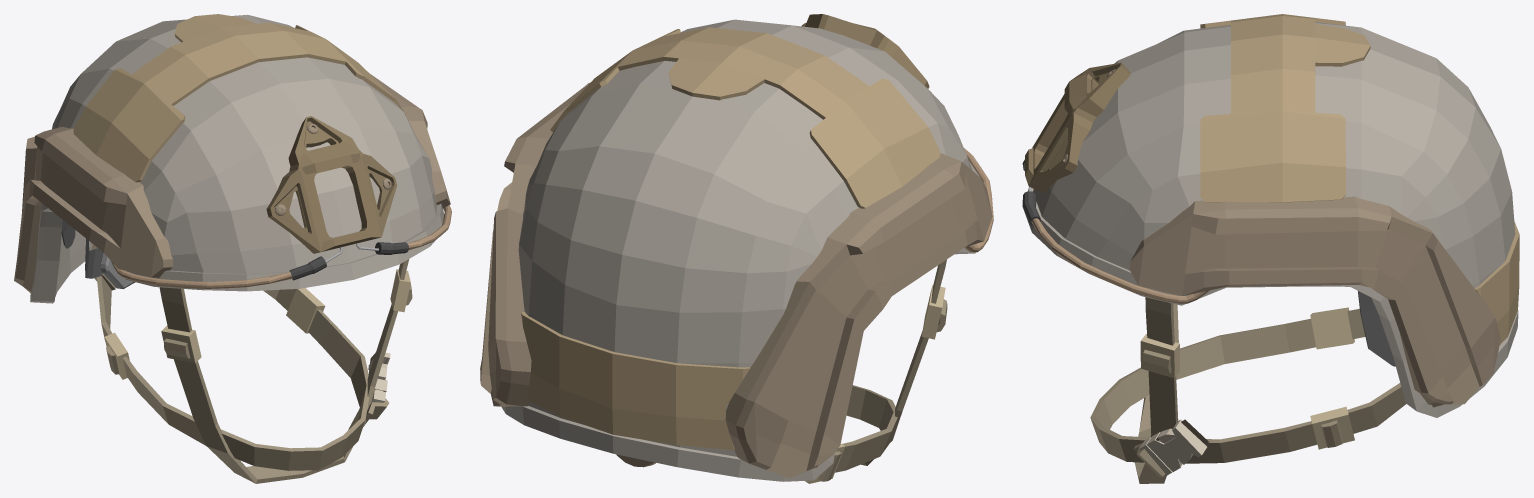
Rendered from HELMET.fbx.
3 views of the same model, side by side, from view 1: azimuth 30°, elevation 25°; view 2: azimuth 150°, elevation 25°; view 3: azimuth 270°, elevation 25° (orthographic). The views are drawn at different scales.
Parts seen in each view (by area): view 1: Cube.143; view 2: Cube.143; view 3: Cube.143.
Part boxes in pixels (<box>): Cube.143: <box>14,14,451,483</box>; Cube.143: <box>480,14,993,483</box>; Cube.143: <box>1022,14,1519,483</box>.
Size of the model in its own units: 78.91 by 86.96 by 91.34.
